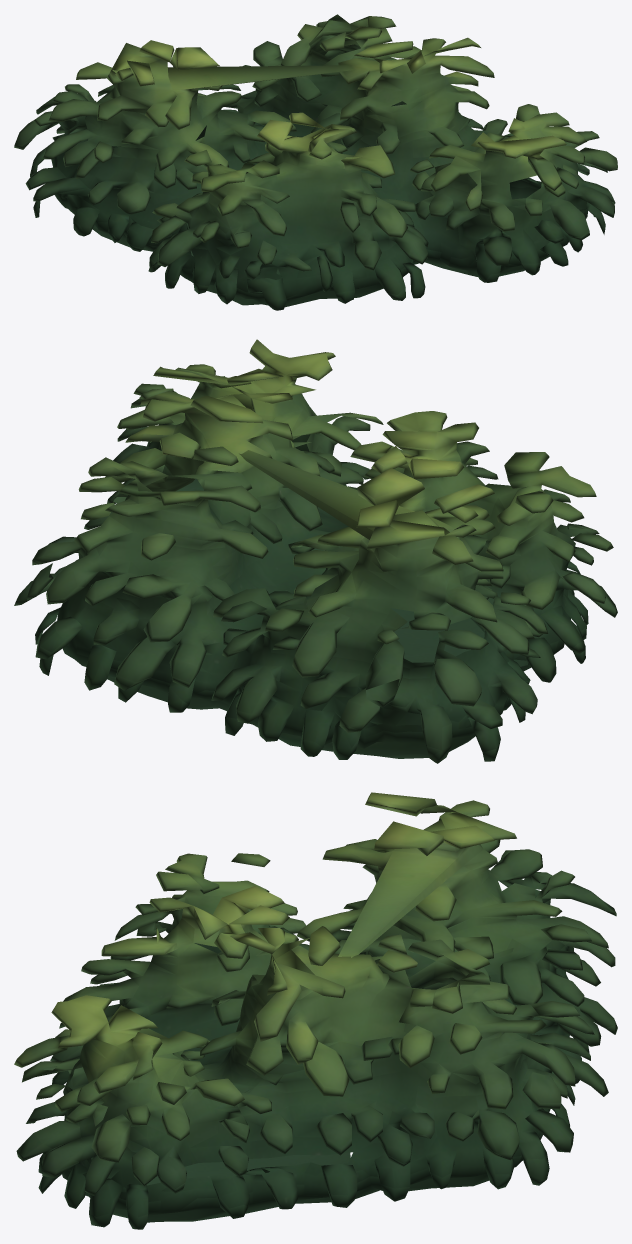
The model's file is model-sized.fbx.
3 views of the same model, one above another, from view 1: azimuth 30°, elevation 25°; view 2: azimuth 150°, elevation 25°; view 3: azimuth 270°, elevation 25° (orthographic). The views are drawn at different scales.
Visible parts, largest first — view 1: ENV038_shrub; view 2: ENV038_shrub; view 3: ENV038_shrub.
Boxes of the visible parts, bbox=[...] form: ENV038_shrub: bbox=[14, 14, 617, 310]; ENV038_shrub: bbox=[14, 339, 617, 763]; ENV038_shrub: bbox=[14, 792, 617, 1229].
Bounding box in the file's own units: 100 × 40 × 90.
1 material, 1 textured.
